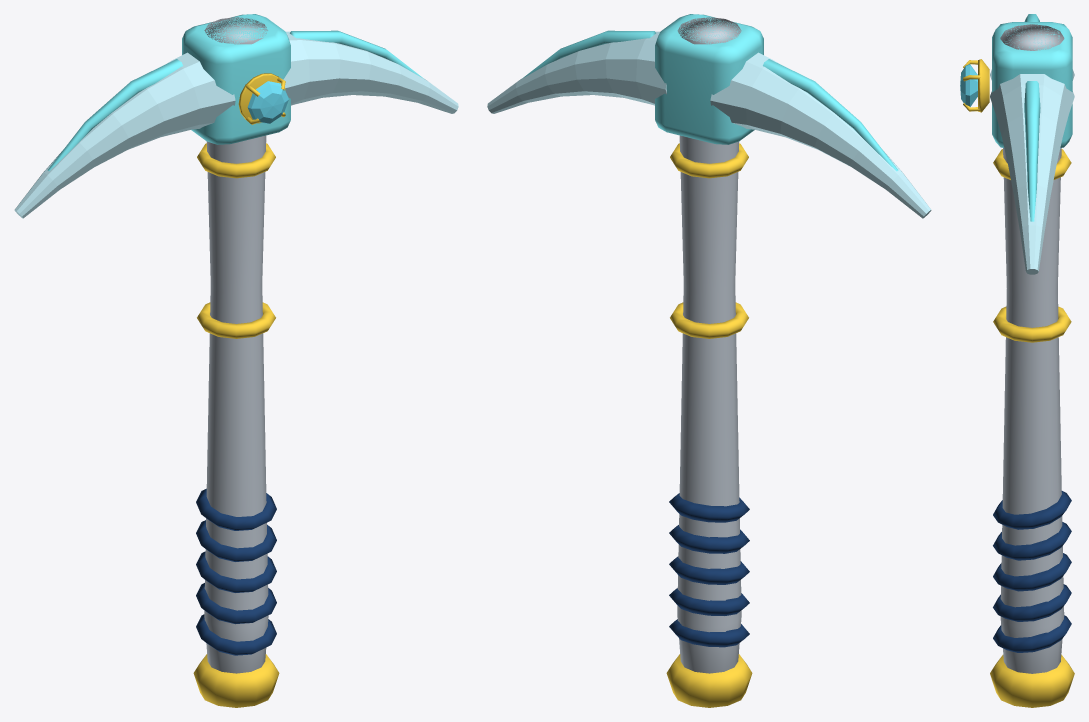
Rendered from IcePick_T5.fbx.
3 views of the same model, side by side, from view 1: azimuth 30°, elevation 25°; view 2: azimuth 150°, elevation 25°; view 3: azimuth 270°, elevation 25° (orthographic).
Visible parts, largest first — view 1: IcePickT5Handle, IcePickT5Head, IcePickT5HeadGlow; view 2: IcePickT5Handle, IcePickT5Head, IcePickT5HeadGlow; view 3: IcePickT5Handle, IcePickT5Head, IcePickT5HeadGlow.
Part boxes in pixels (x1,y1,x2,y2): IcePickT5Handle: [193, 17, 279, 707]; IcePickT5Head: [14, 14, 458, 218]; IcePickT5HeadGlow: [47, 30, 423, 171]; IcePickT5Handle: [666, 17, 752, 707]; IcePickT5Head: [487, 14, 931, 218]; IcePickT5HeadGlow: [522, 30, 898, 171]; IcePickT5Handle: [990, 24, 1074, 707]; IcePickT5Head: [963, 22, 1074, 274]; IcePickT5HeadGlow: [960, 14, 1040, 221].
Bounding box in the file's own units: 237 × 340 × 53.97.
